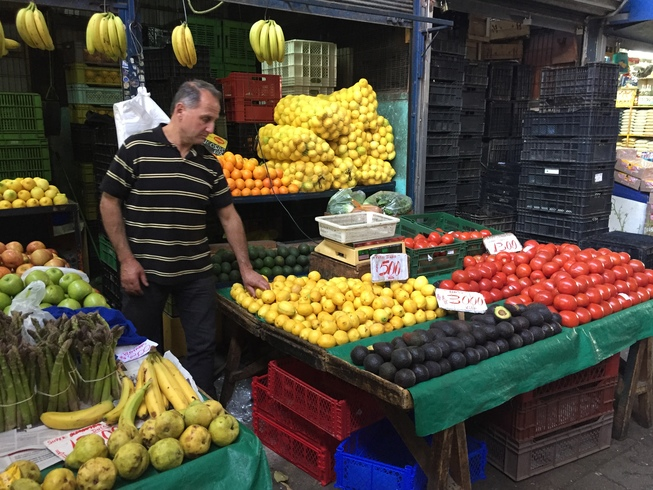precio: (433, 285, 490, 315), (368, 251, 412, 288), (481, 228, 523, 264)
